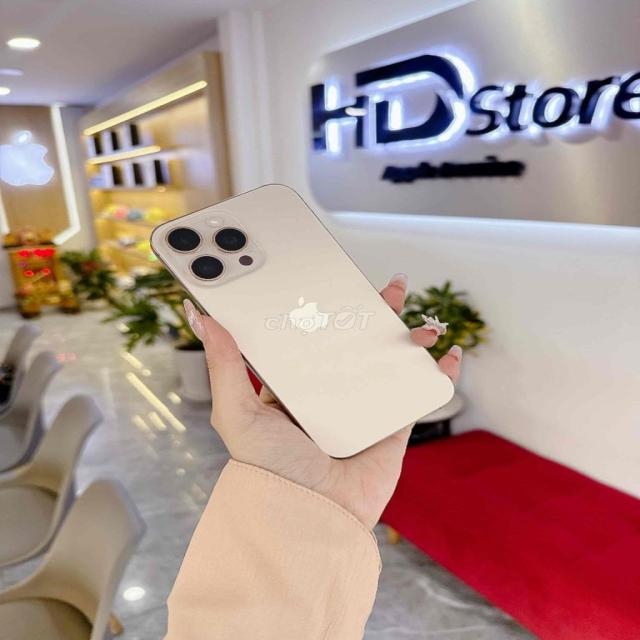gen_16: (151, 184, 453, 458)
